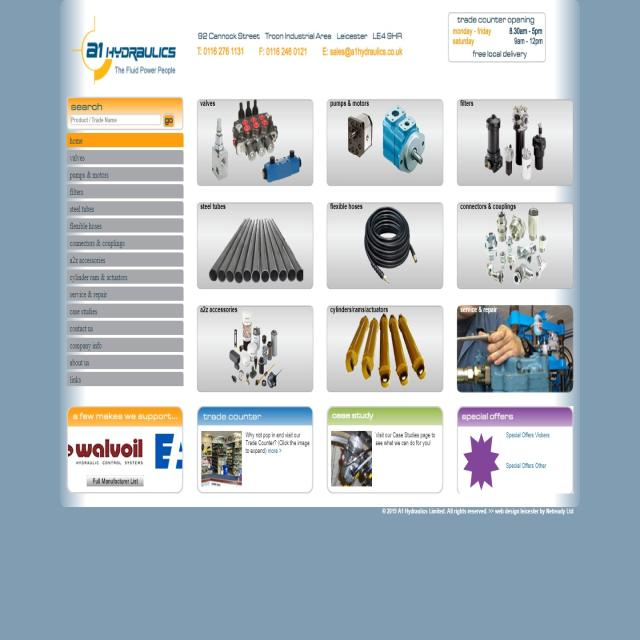button: (327, 304, 444, 394), (328, 200, 443, 291), (457, 98, 572, 188), (457, 202, 572, 292), (197, 203, 313, 291), (198, 304, 313, 392), (327, 98, 443, 185), (456, 307, 573, 393), (198, 100, 313, 186), (67, 251, 183, 268), (67, 132, 182, 149), (67, 166, 184, 182), (68, 234, 184, 250), (67, 302, 183, 318), (68, 216, 183, 232), (67, 286, 182, 302), (66, 201, 184, 216), (66, 268, 182, 283), (68, 184, 183, 199), (68, 337, 181, 352), (67, 150, 183, 164), (67, 320, 183, 334), (67, 372, 183, 386), (68, 355, 182, 369), (162, 113, 175, 127)
field: (70, 113, 161, 126)
heading: (84, 38, 180, 61), (202, 412, 265, 424), (462, 410, 515, 424), (330, 408, 375, 422), (72, 102, 104, 112)
image: (456, 304, 574, 394), (457, 201, 572, 290), (198, 202, 314, 290), (327, 305, 443, 393), (197, 305, 313, 392), (327, 201, 444, 287), (327, 100, 443, 186), (457, 100, 573, 185), (68, 406, 182, 492), (198, 99, 312, 184), (78, 20, 181, 84), (200, 431, 242, 487), (331, 431, 372, 487), (464, 433, 501, 491)
label: (70, 114, 118, 125)
link: (268, 446, 284, 456)
text: (449, 14, 544, 63), (197, 42, 405, 60), (198, 26, 404, 44), (245, 429, 311, 456), (376, 428, 436, 448), (113, 62, 178, 78), (505, 459, 547, 472), (506, 429, 550, 440)
